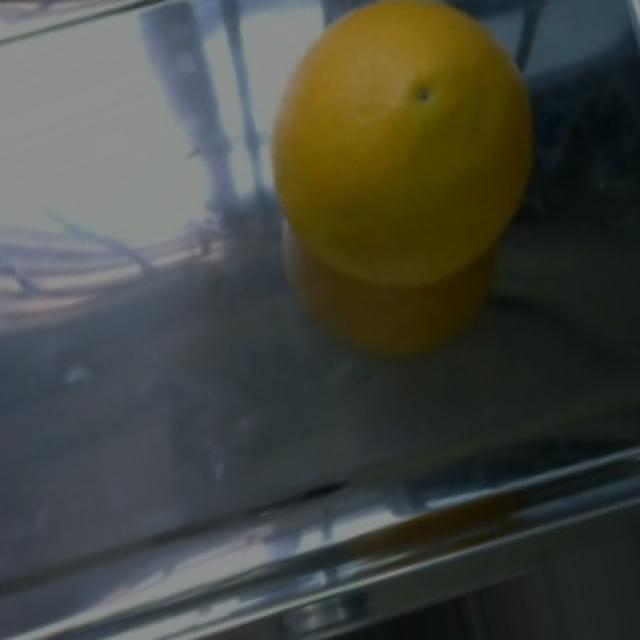Fruit: (257, 0, 548, 308)
